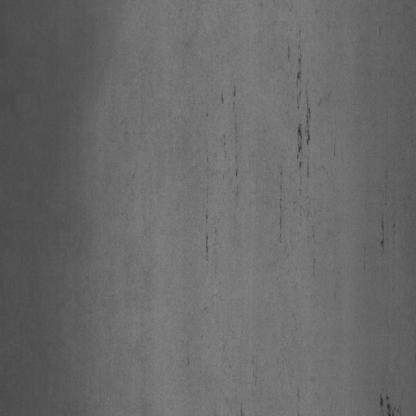inclusion: (202, 75, 244, 260), (375, 172, 398, 264), (375, 385, 397, 413)
oil_spot: (292, 106, 318, 181), (291, 45, 308, 103)
